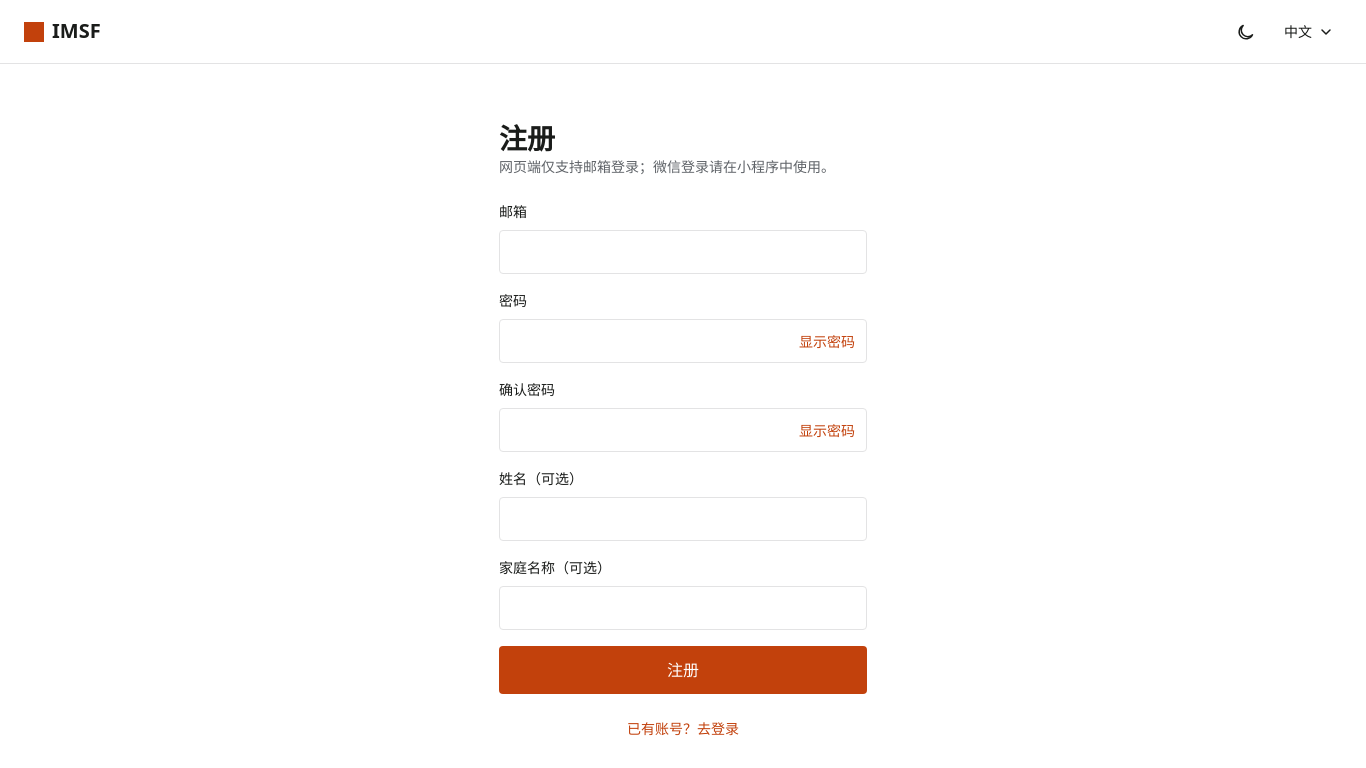
Test: error mapping › 429 shows the rate-limit message
In the field labelled "邮箱": {"x": 683, "y": 252} 499,230 -> 867,274, type "a@b.c"
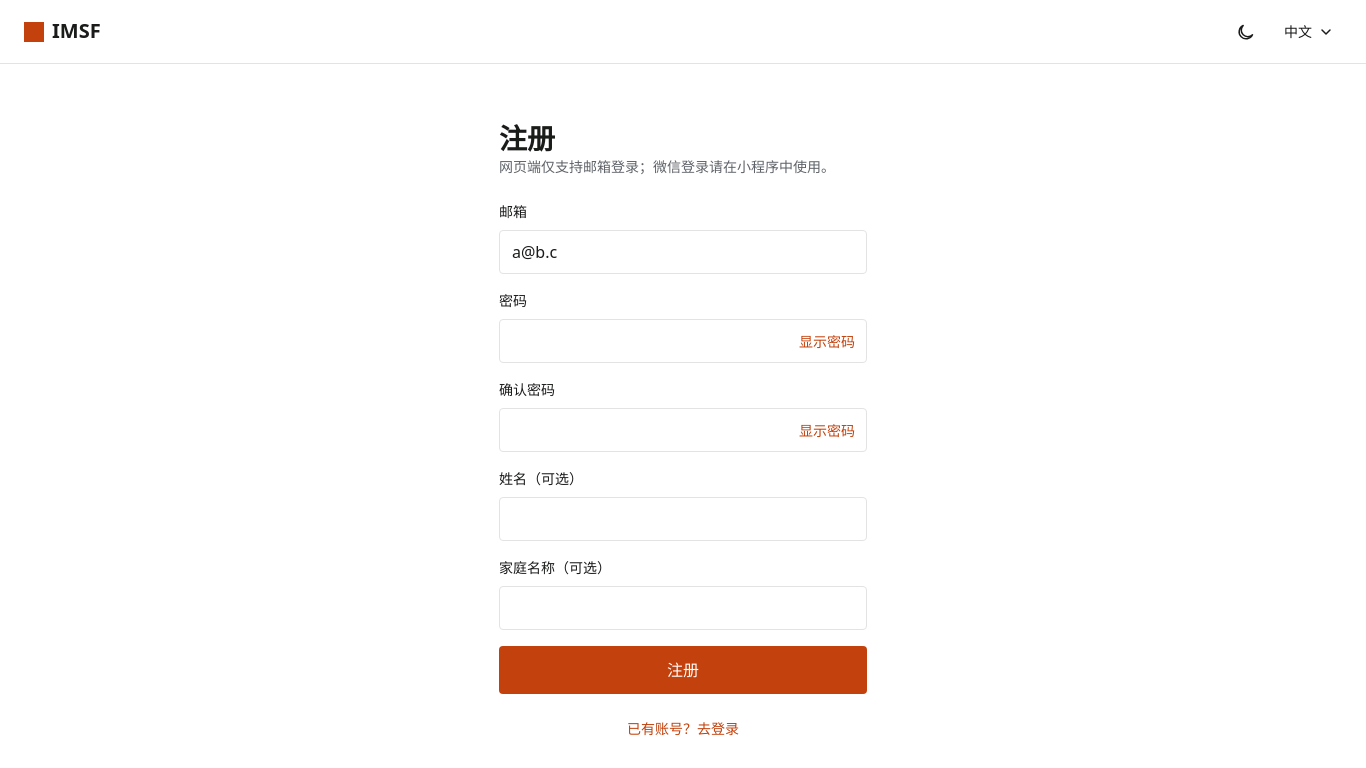
In the password field labelled "密码": {"x": 683, "y": 341} 499,319 -> 867,363, type "longenough"
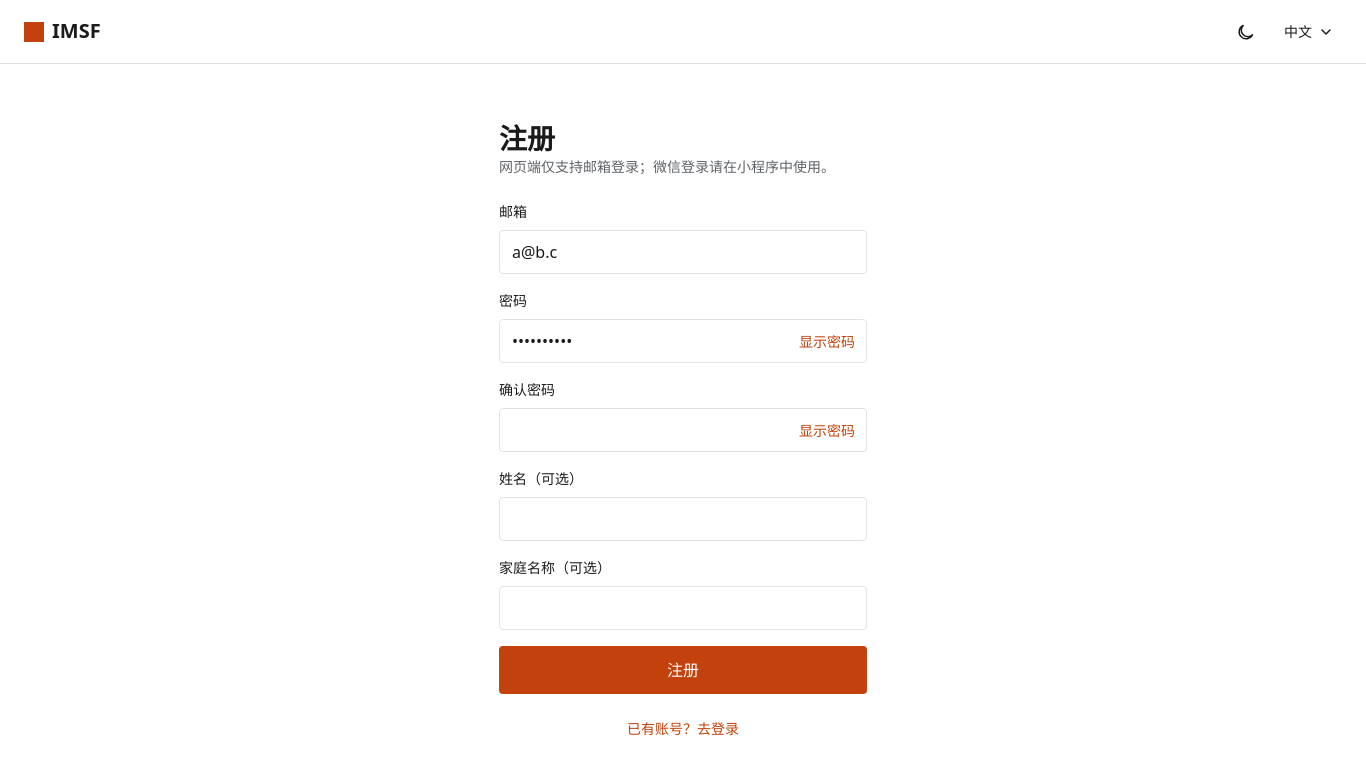
In the password field labelled "确认密码": {"x": 683, "y": 430} 499,408 -> 867,452, type "longenough"
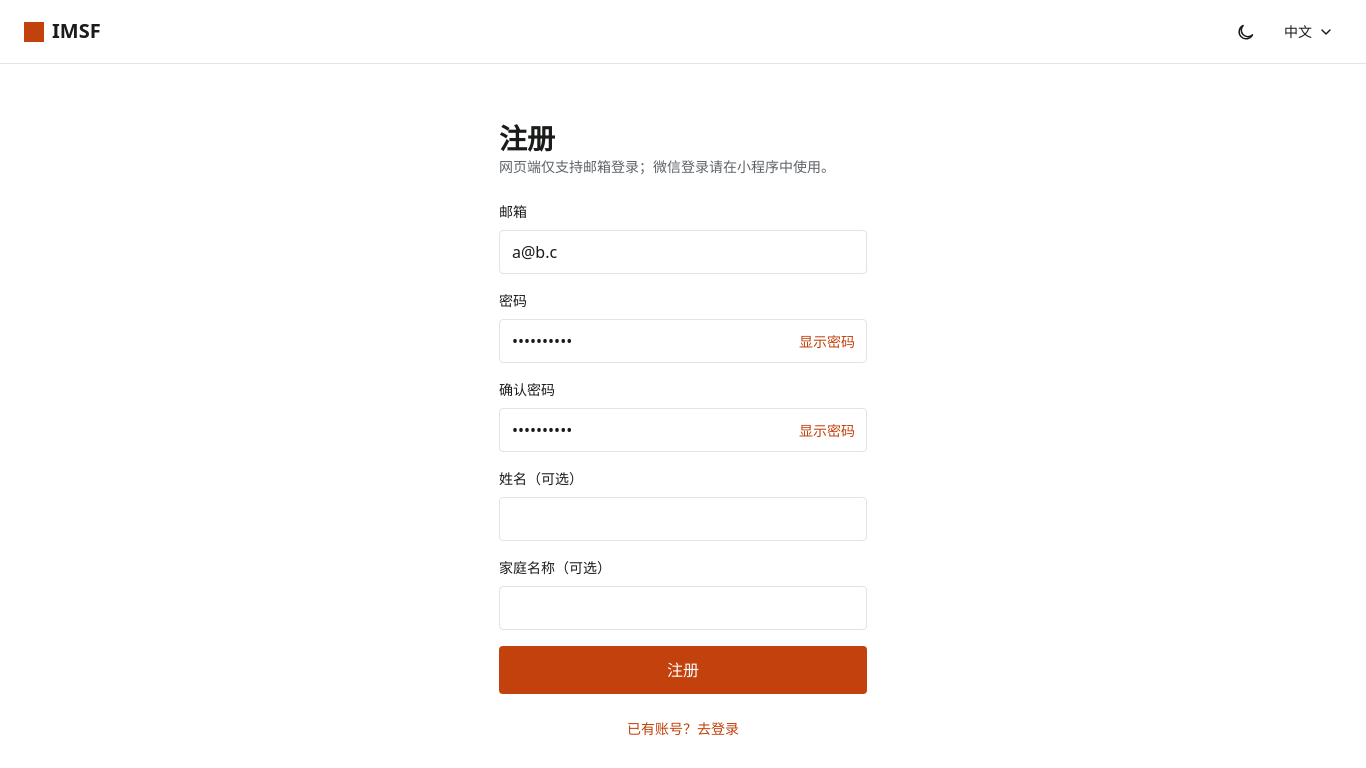
Click the button "注册": {"x": 683, "y": 670} 499,646 -> 867,694
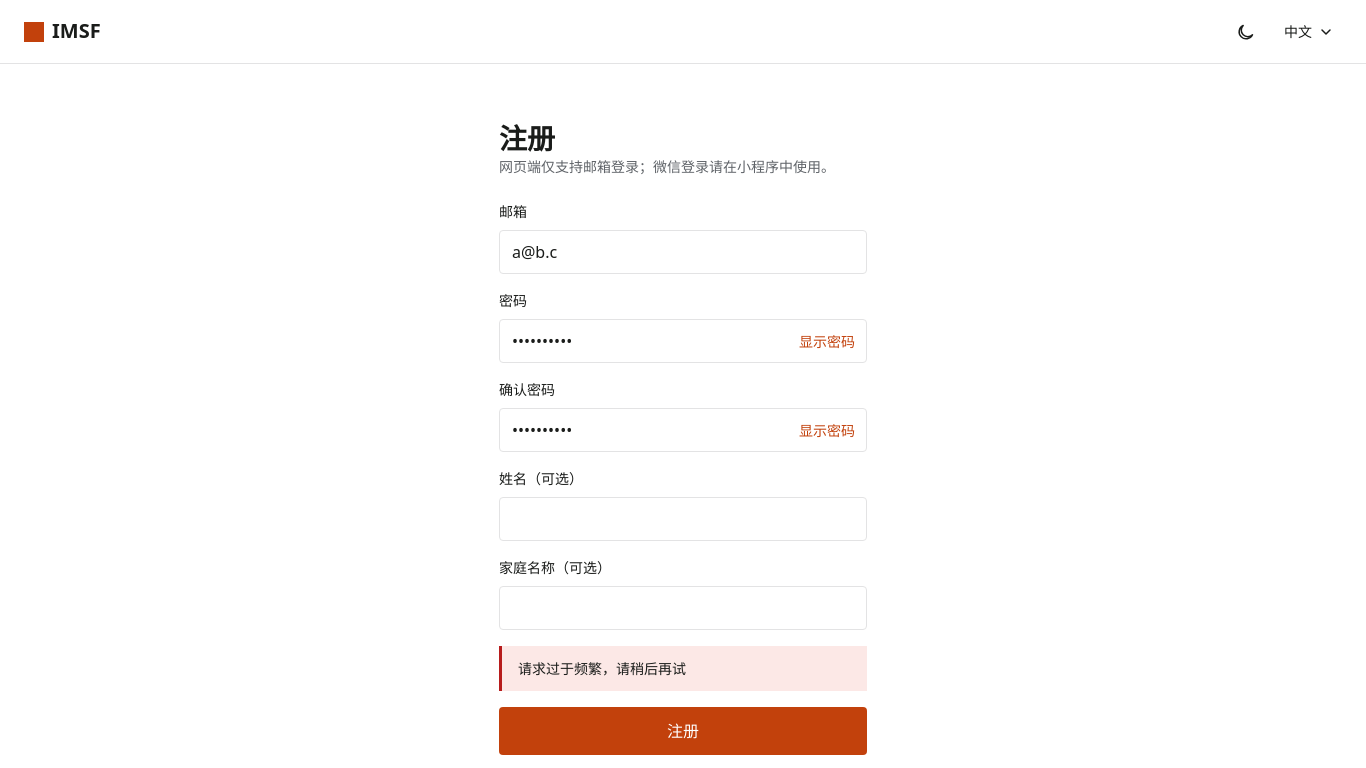
Result: the message reads "请求过于频繁，请稍后再试" at 518,659 -> 686,678
